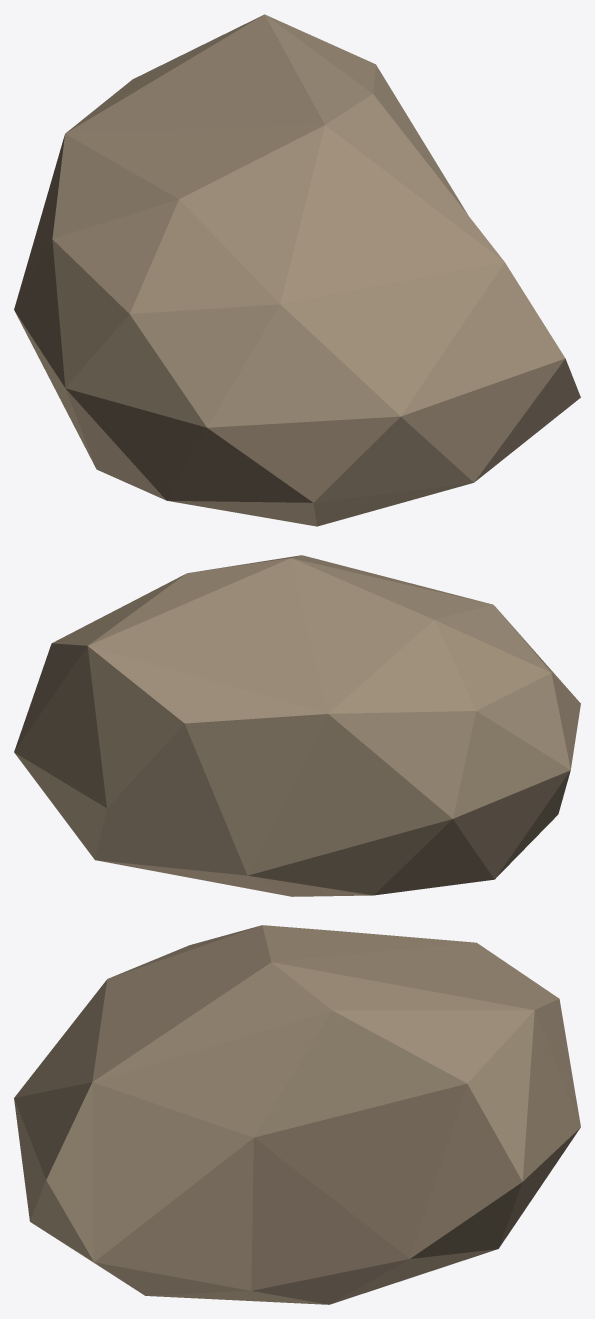
Rendered from Rock.fbx.
3 renders of one model, top to bottom at view 1: azimuth 30°, elevation 25°; view 2: azimuth 150°, elevation 25°; view 3: azimuth 270°, elevation 25°, orthographic. The views are drawn at different scales.
Parts seen in each view (by area): view 1: Rock; view 2: Rock; view 3: Rock.
Part boxes in pixels (x1=…): Rock: x1=14, y1=14, x2=580, y2=526; Rock: x1=14, y1=555, x2=580, y2=896; Rock: x1=14, y1=925, x2=580, y2=1304.
Size of the model in its own units: 411 by 291 by 471.
